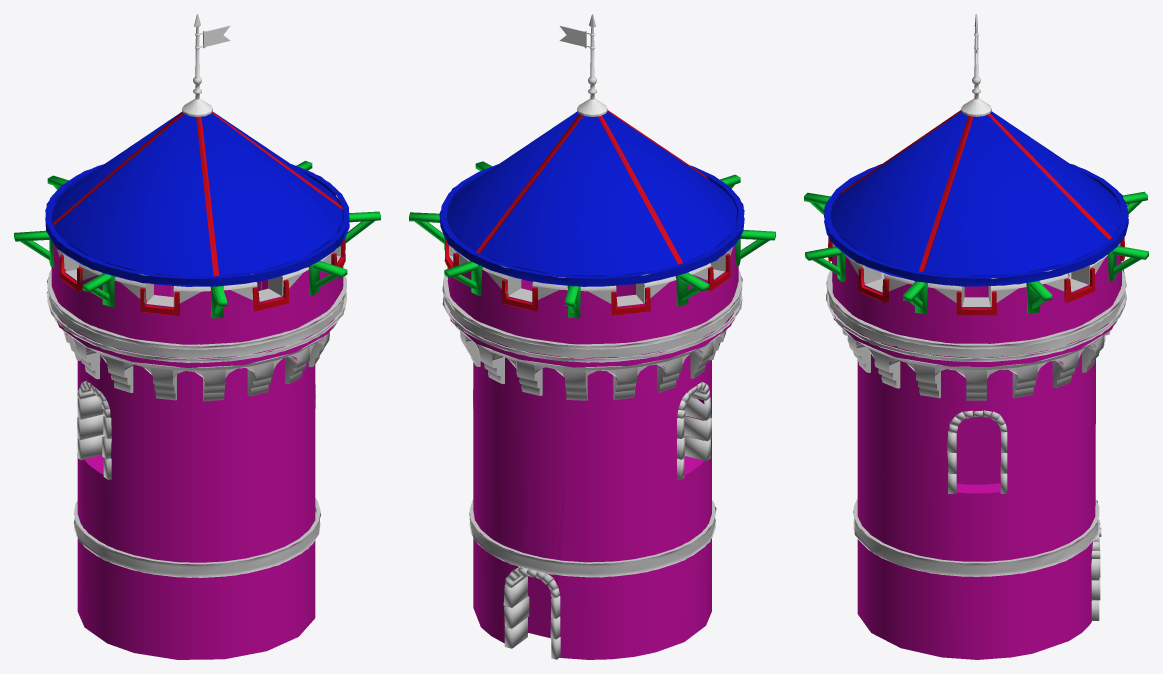
The model's file is Tower_1 (2).fbx.
The picture shows the model from 3 angles, left to right: view 1: azimuth 30°, elevation 25°; view 2: azimuth 150°, elevation 25°; view 3: azimuth 270°, elevation 25°; orthographic projection.
Visible parts, largest first — view 1: Tower_1.004, Group_4.010, Group_4.011; view 2: Tower_1.004, Group_4.010, Group_4.011; view 3: Tower_1.004, Group_4.010, Group_4.011.
Boxes of the visible parts, x1,y1,x2,y2 form: Tower_1.004: (46,239,346,659); Group_4.010: (14,111,380,318); Group_4.011: (182,14,230,116); Tower_1.004: (442,239,742,659); Group_4.010: (409,110,775,318); Group_4.011: (559,14,607,116); Tower_1.004: (826,237,1126,659); Group_4.010: (804,110,1148,314); Group_4.011: (961,14,991,116).
Size of the model in its own units: 932 by 1774 by 932.
